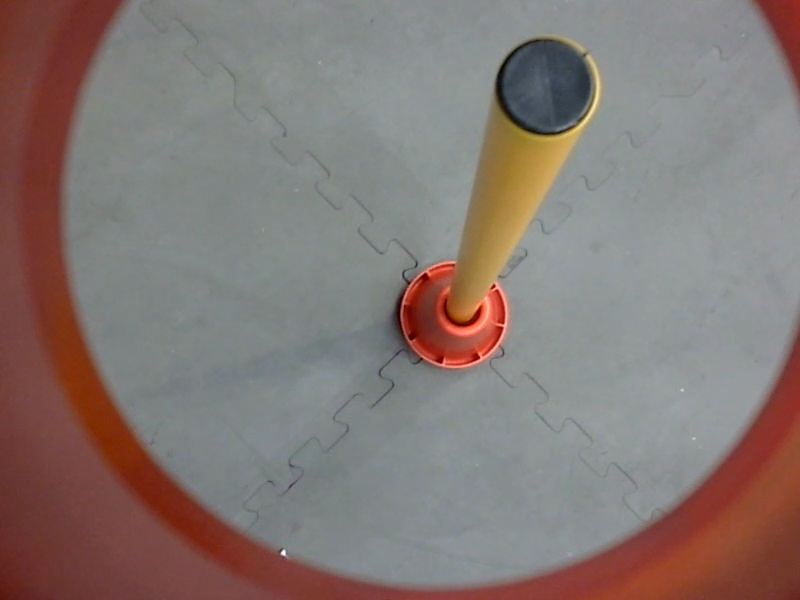tip: (483, 25, 607, 146)
